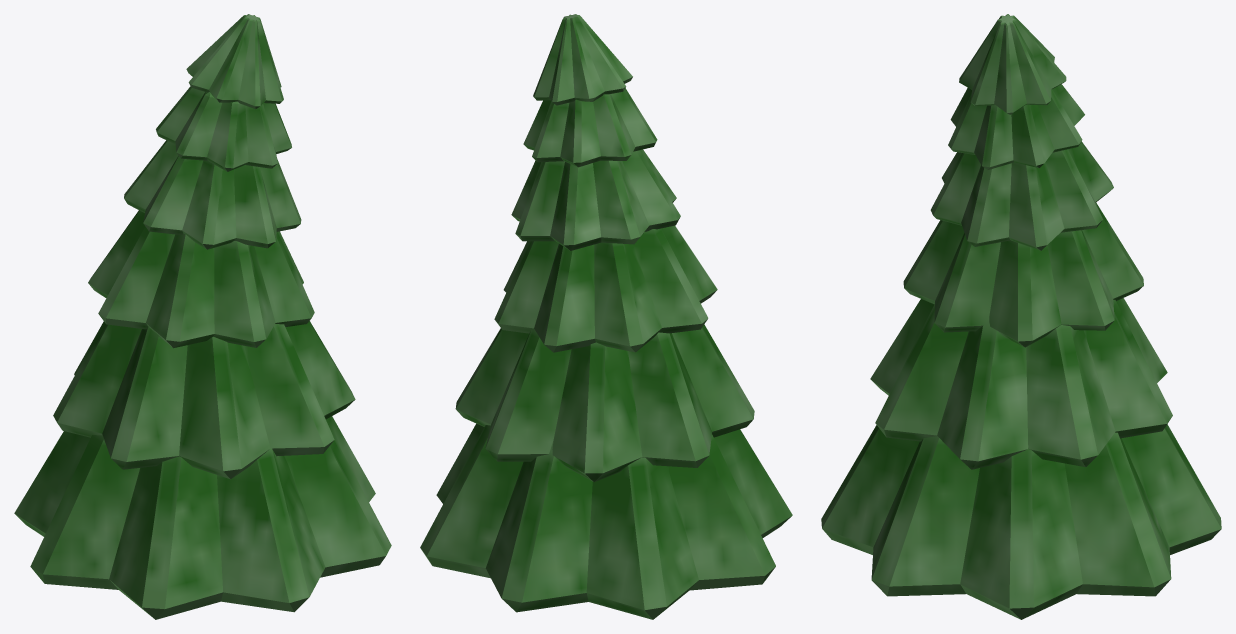
The model's file is tree_pine2.fbx.
3 views of the same model, side by side, from view 1: azimuth 30°, elevation 25°; view 2: azimuth 150°, elevation 25°; view 3: azimuth 270°, elevation 25° (orthographic). The views are drawn at different scales.
Visible parts, largest first — view 1: group6_3, group6_5, group6, group6_1, group6_4, group6_2; view 2: group6_3, group6_5, group6, group6_1, group6_4, group6_2; view 3: group6_3, group6_5, group6, group6_1, group6_4, group6_2.
Part boxes in pixels (x1,y1,x2,y2): group6_3: (14,416,391,619); group6_5: (53,321,355,479); group6: (88,210,314,348); group6_1: (124,140,301,249); group6_4: (156,86,291,171); group6_2: (186,14,283,109); group6_3: (420,423,792,619); group6_5: (455,324,754,482); group6: (494,225,717,352); group6_1: (511,149,680,250); group6_4: (523,88,657,167); group6_2: (533,14,632,105); group6_3: (821,424,1221,619); group6_5: (870,298,1172,469); group6: (903,202,1143,347); group6_1: (930,141,1113,250); group6_4: (948,84,1084,169); group6_2: (959,14,1066,114).
Bounding box in the file's own units: 204 × 319 × 204.
Materials: 1 (1 with a texture image).
